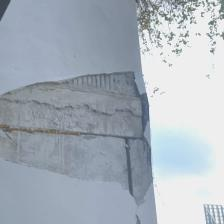High: (1, 62, 157, 224)
